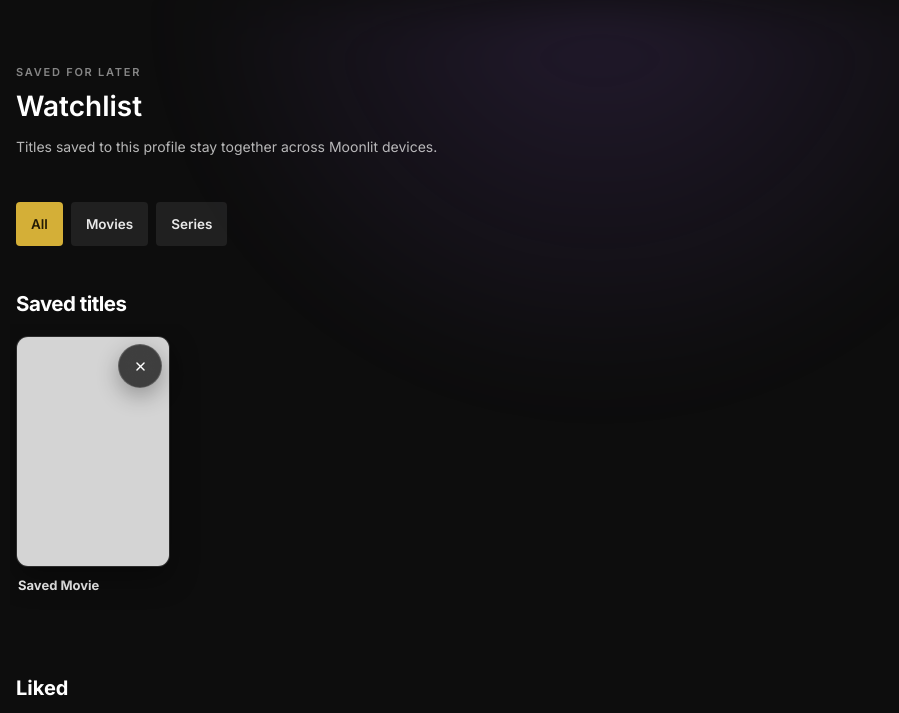
Test: Watchlist destination › removes a title optimistically and restores it when the mutation fails
This screenshot has width=899, height=713.
Expected: the text "Saved Movie" is shown, top-left (18, 577), bottom-right (99, 593)
Click the button named "Remove Saved Movie from watchlist". click: [140, 366]
box: top-left (118, 344), bottom-right (162, 388)
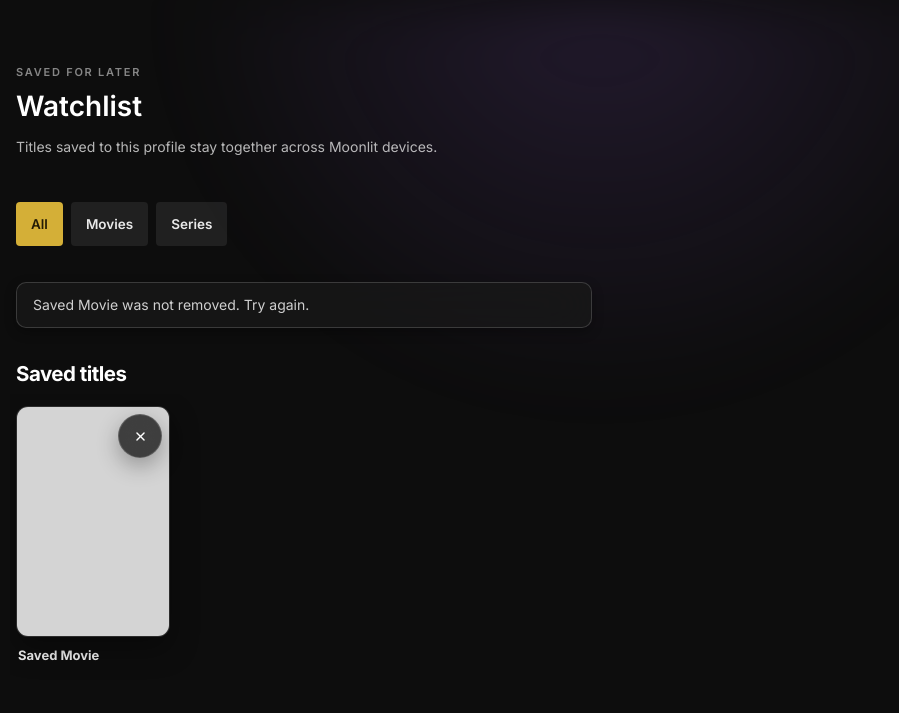
Expected: the text "Saved Movie" is shown, top-left (18, 647), bottom-right (99, 663)
Expected: the message shows "Saved Movie was not removed", top-left (33, 296), bottom-right (309, 313)
